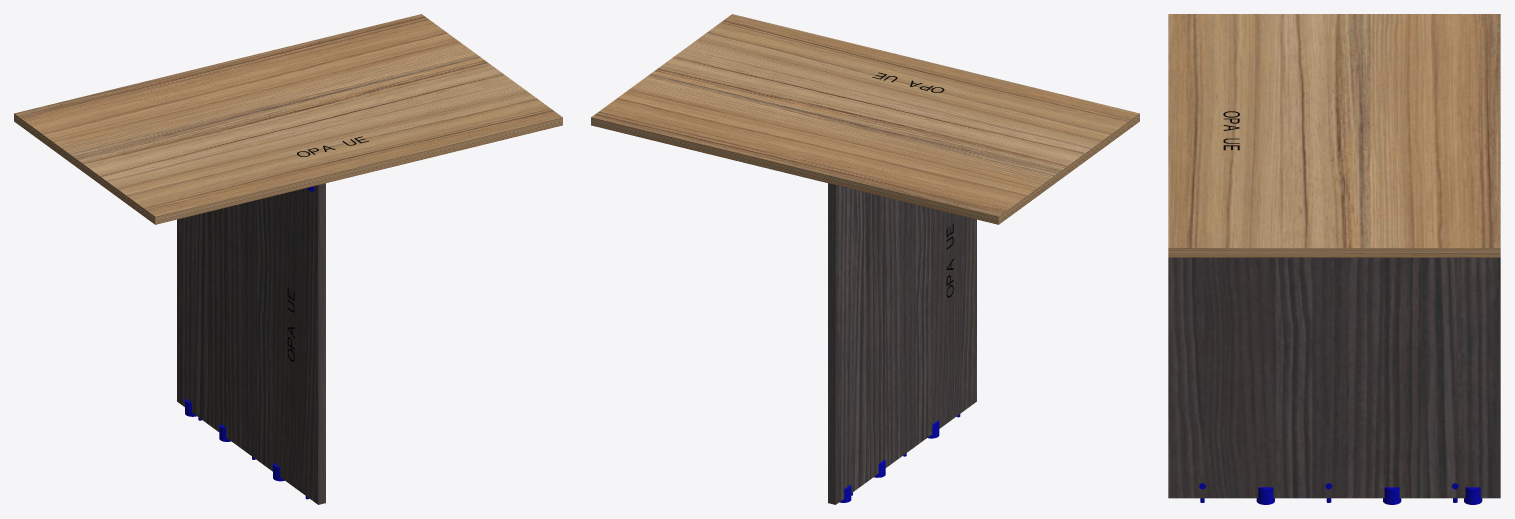
The model's file is twoParts-opaque.gltf.
The picture shows the model from 3 angles, left to right: view 1: azimuth 30°, elevation 25°; view 2: azimuth 150°, elevation 25°; view 3: azimuth 270°, elevation 25°; orthographic projection. The views are drawn at different scales.
Parts seen in each view (by area): view 1: {2A0F8DE6-0ADB-4e56-90E3-6B361664F852}_Node, {F93E2473-7A14-4adc-BF7C-D00C8F698B2A}_Node; view 2: {2A0F8DE6-0ADB-4e56-90E3-6B361664F852}_Node, {F93E2473-7A14-4adc-BF7C-D00C8F698B2A}_Node; view 3: {2A0F8DE6-0ADB-4e56-90E3-6B361664F852}_Node, {F93E2473-7A14-4adc-BF7C-D00C8F698B2A}_Node, {0F468177-0E21-4b92-85ED-F7F9766B61F1}_Node.
Part boxes in pixels (x1,y1,x2,y2): {2A0F8DE6-0ADB-4e56-90E3-6B361664F852}_Node: (14, 14, 562, 224); {F93E2473-7A14-4adc-BF7C-D00C8F698B2A}_Node: (177, 183, 325, 504); {2A0F8DE6-0ADB-4e56-90E3-6B361664F852}_Node: (591, 14, 1139, 224); {F93E2473-7A14-4adc-BF7C-D00C8F698B2A}_Node: (828, 183, 976, 504); {2A0F8DE6-0ADB-4e56-90E3-6B361664F852}_Node: (1168, 14, 1500, 257); {F93E2473-7A14-4adc-BF7C-D00C8F698B2A}_Node: (1168, 257, 1500, 498); {0F468177-0E21-4b92-85ED-F7F9766B61F1}_Node: (1199, 483, 1482, 504).
Bounding box in the file's own units: 1 × 0.7815 × 0.6.
Materials: 5 (2 with a texture image).
